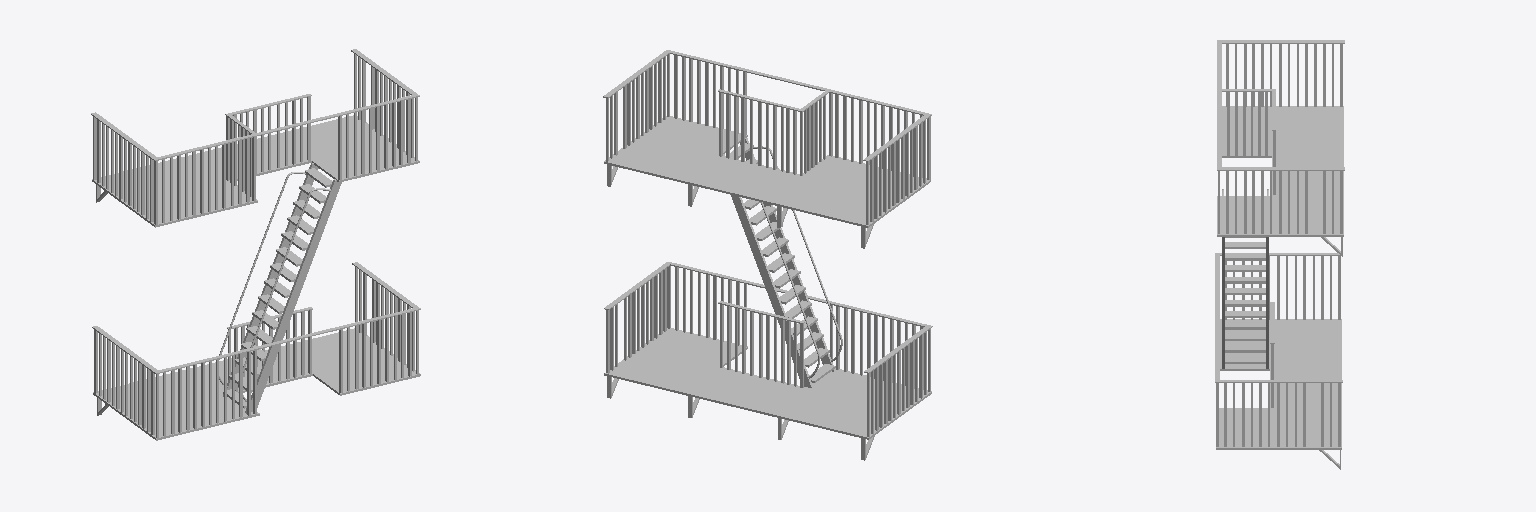
The model's file is FireEscape.obj.
3 views of the same model, side by side, from view 1: azimuth 30°, elevation 25°; view 2: azimuth 150°, elevation 25°; view 3: azimuth 270°, elevation 25° (orthographic).
Parts seen in each view (by area): view 1: Cube.002, Cube.077_Cube.082, Cube.152_Cube.157, Cube.153_Cube.158, Cube, Cube.076_Cube.081, Cube.154_Cube.159; view 2: Cube.002, Cube.077_Cube.082, Cube.152_Cube.157, Cube, Cube.076_Cube.081, Cube.154_Cube.159, Cube.153_Cube.158; view 3: Cube.002, Cube.077_Cube.082, Cube.152_Cube.157, Cube, Cube.076_Cube.081.
Boxes of the visible parts, box(x1,y1,x2,y2) form: Cube.002: box(92, 115, 419, 227); Cube.077_Cube.082: box(93, 328, 420, 440); Cube.152_Cube.157: box(223, 168, 332, 408); Cube.153_Cube.158: box(245, 179, 341, 413); Cube: box(91, 49, 419, 160); Cube.076_Cube.081: box(92, 262, 420, 373); Cube.154_Cube.159: box(223, 163, 318, 396); Cube.002: box(604, 116, 930, 227); Cube.077_Cube.082: box(604, 328, 931, 439); Cube.152_Cube.157: box(730, 143, 835, 382); Cube: box(603, 50, 931, 161); Cube.076_Cube.081: box(604, 262, 932, 373); Cube.154_Cube.159: box(723, 154, 812, 387); Cube.153_Cube.158: box(740, 138, 835, 371); Cube.002: box(1217, 106, 1343, 236); Cube.077_Cube.082: box(1216, 319, 1341, 449); Cube.152_Cube.157: box(1225, 237, 1265, 363); Cube: box(1217, 40, 1344, 170); Cube.076_Cube.081: box(1215, 253, 1342, 382).
Size of the model in its own units: 3.2 by 3.48 by 1.35.